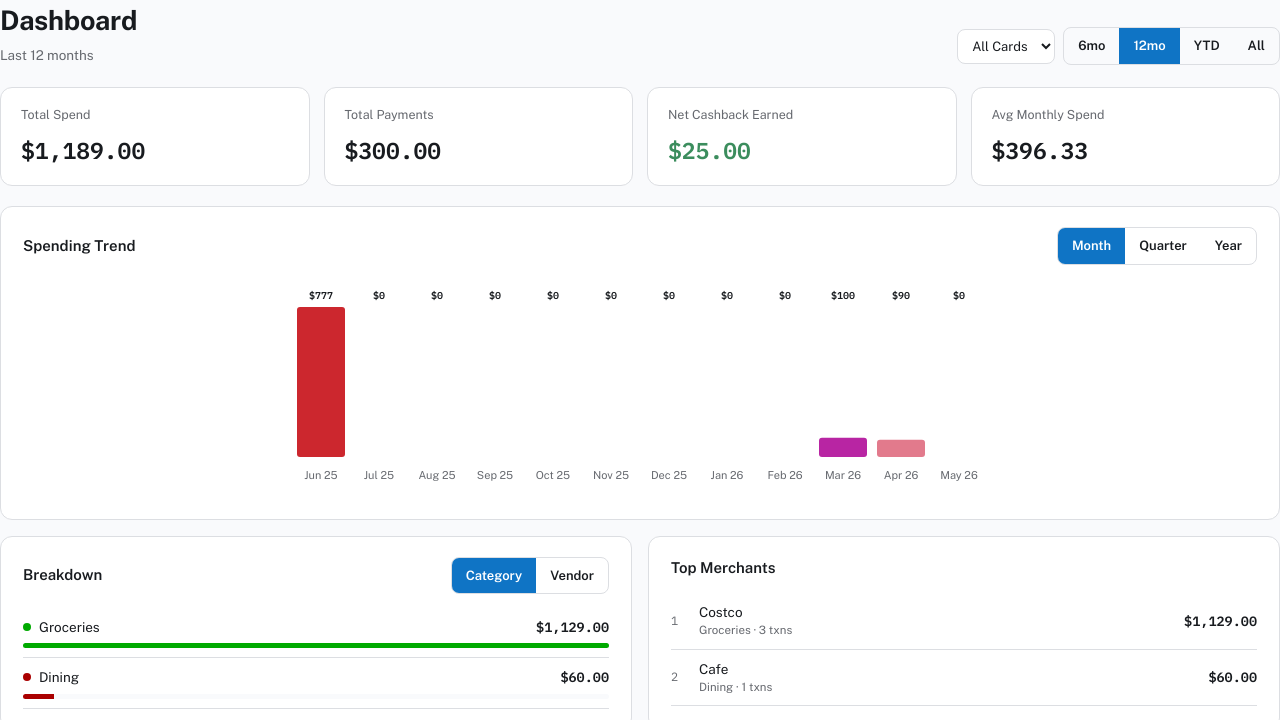
Scenario: Dashboard spending by card › respects the same 12mo/All-cards filters as the rest of the page
Expected: the text "$1,906.00" is not shown
What coordinates should you click on to do the following:
click the button "All"
I would click on:
 (1256, 46)
Its box is [1234,28,1279,64].
(page scrolled)
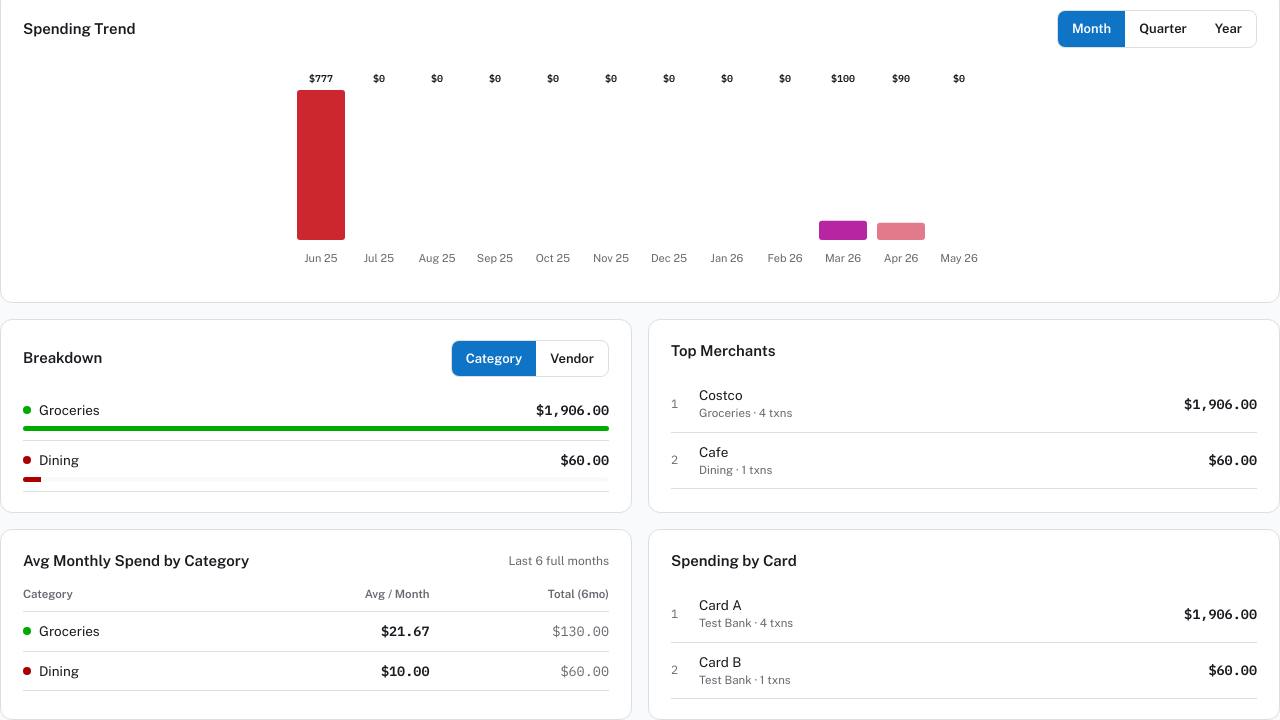
Expected: the text "$1,906.00" in the row of "Card A" is shown, [1184,605,1257,623]
